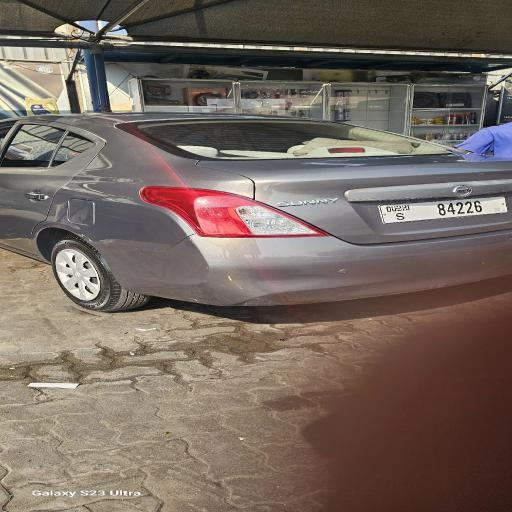license-plates: (380, 197, 507, 224)
